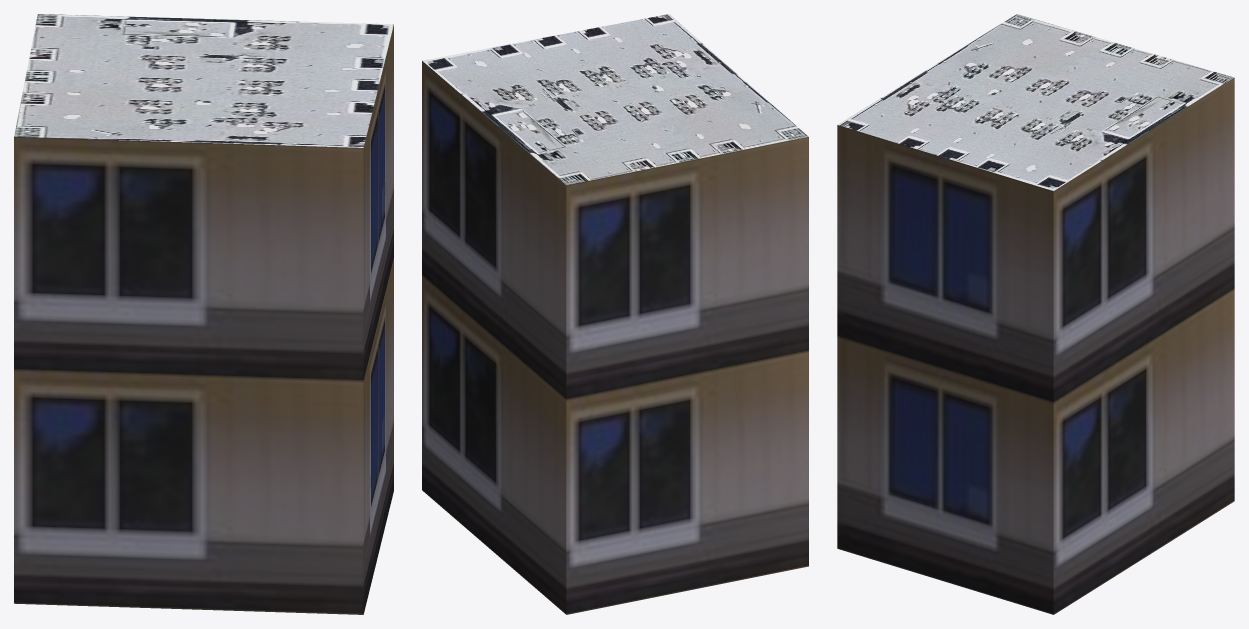
The model's file is ResTex__4931.fbx.
3 views of the same model, side by side, from view 1: azimuth 30°, elevation 25°; view 2: azimuth 150°, elevation 25°; view 3: azimuth 270°, elevation 25° (orthographic). The views are drawn at different scales.
Visible parts, largest first — view 1: CityEngineMaterial_5_m, CityEngineMaterial_4_m; view 2: CityEngineMaterial_5_m, CityEngineMaterial_4_m; view 3: CityEngineMaterial_5_m, CityEngineMaterial_4_m.
Part boxes in pixels (bbox=[...]): CityEngineMaterial_5_m: bbox=[14, 25, 393, 614]; CityEngineMaterial_4_m: bbox=[14, 14, 393, 147]; CityEngineMaterial_5_m: bbox=[422, 61, 808, 614]; CityEngineMaterial_4_m: bbox=[422, 14, 808, 185]; CityEngineMaterial_5_m: bbox=[837, 77, 1234, 614]; CityEngineMaterial_4_m: bbox=[838, 14, 1233, 190].
Size of the model in its own units: 5.38 by 6 by 5.09.
2 materials, 2 textured.
